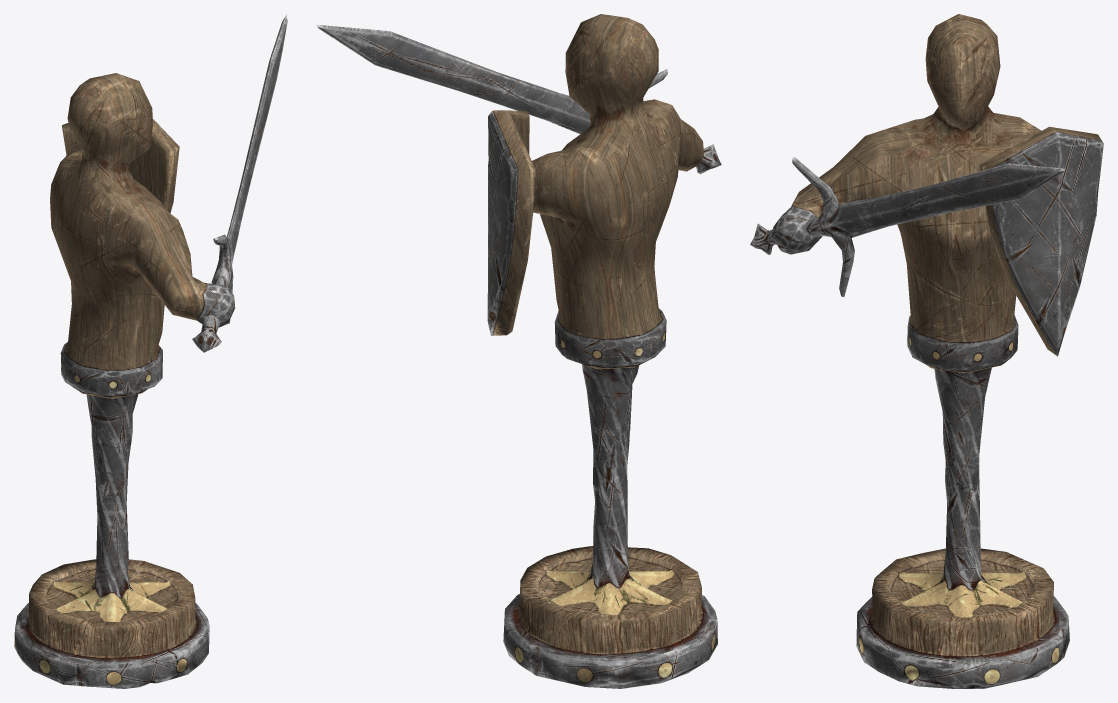
File: armor_station.glb
3 views of the same model, side by side, from view 1: azimuth 30°, elevation 25°; view 2: azimuth 150°, elevation 25°; view 3: azimuth 270°, elevation 25° (orthographic). The views are drawn at different scales.
Parts seen in each view (by area): view 1: Dummy; view 2: Dummy; view 3: Dummy.
Part boxes in pixels (x1,y1,x2,y2): Dummy: [14, 14, 287, 688]; Dummy: [316, 14, 721, 688]; Dummy: [750, 14, 1103, 688].
Bounding box in the file's own units: 4.3 × 7.67 × 3.95.
Materials: 1 (1 with a texture image).
